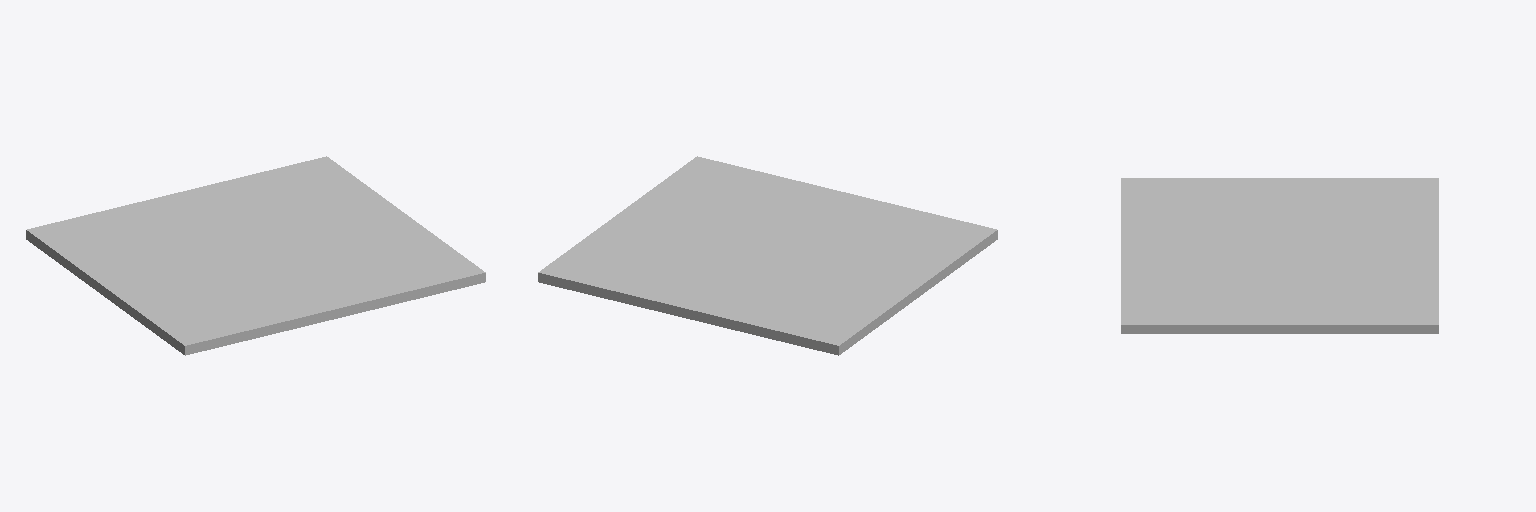
File: Ground.obj
The picture shows the model from 3 angles: view 1: azimuth 30°, elevation 25°; view 2: azimuth 150°, elevation 25°; view 3: azimuth 270°, elevation 25°; orthographic projection.
Parts seen in each view (by area): view 1: Ground; view 2: Ground; view 3: Ground.
Boxes of the visible parts, <box> form: Ground: <box>26,156,485,355</box>; Ground: <box>538,156,997,355</box>; Ground: <box>1121,178,1438,333</box>.
Size of the model in its own units: 175 by 5.42 by 160.